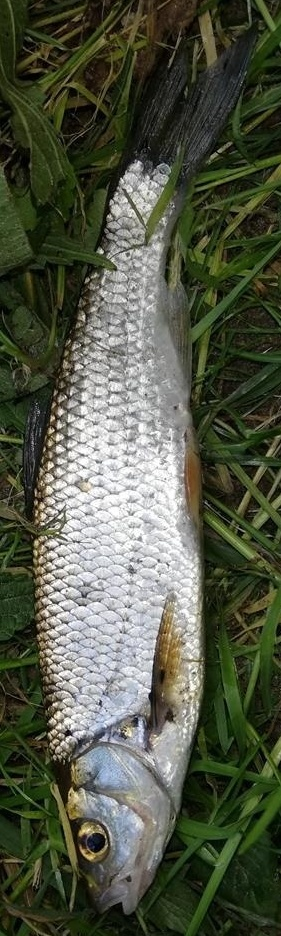Leuciscus leuciscus: (20, 20, 261, 916)
